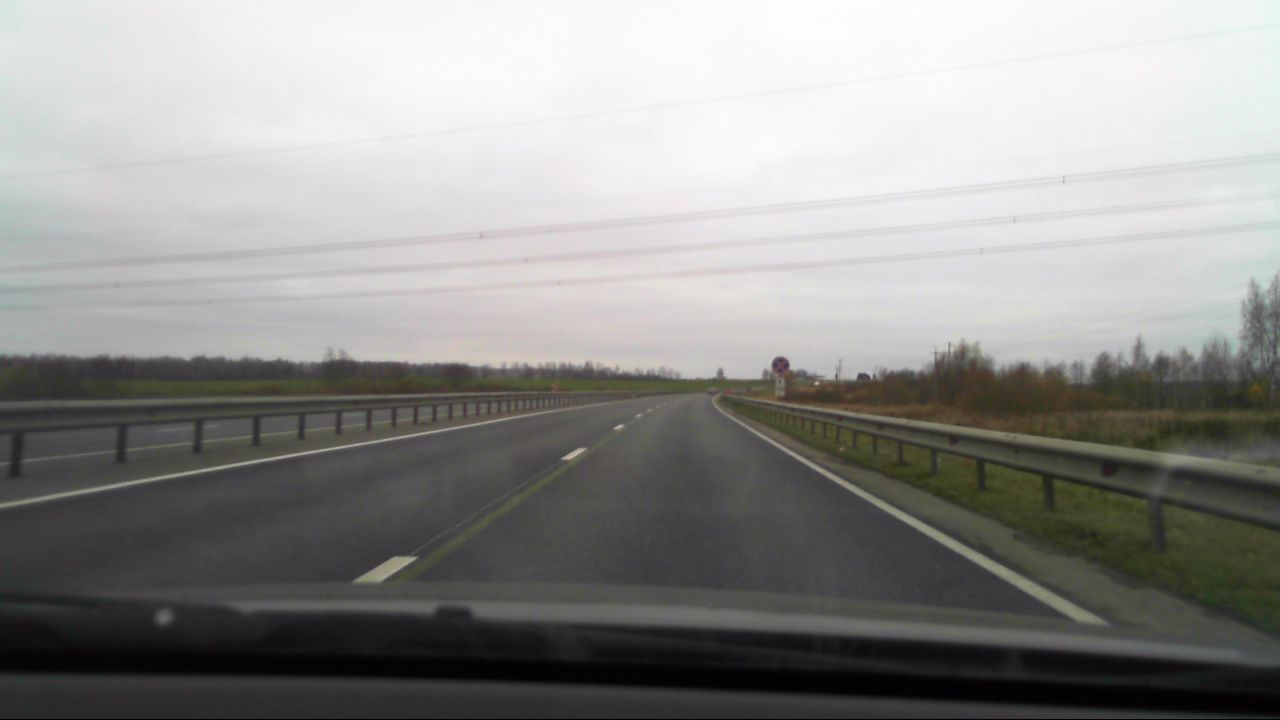No Parking: (771, 356, 790, 377)
